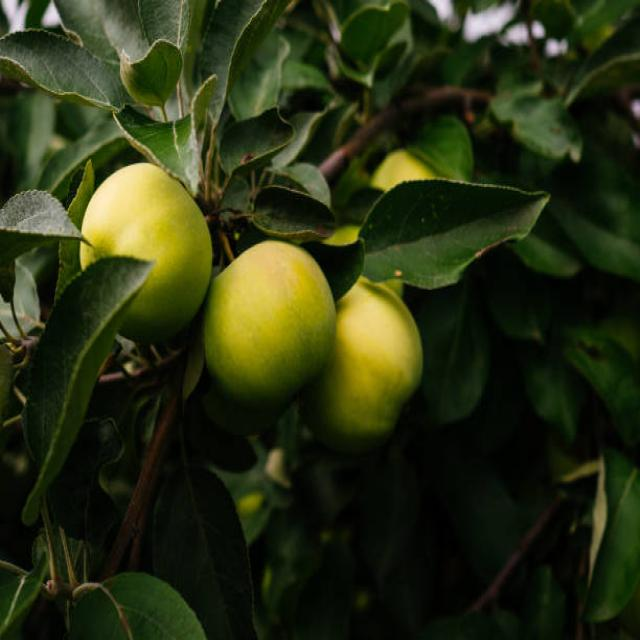Unripe: (205, 240, 335, 404)
